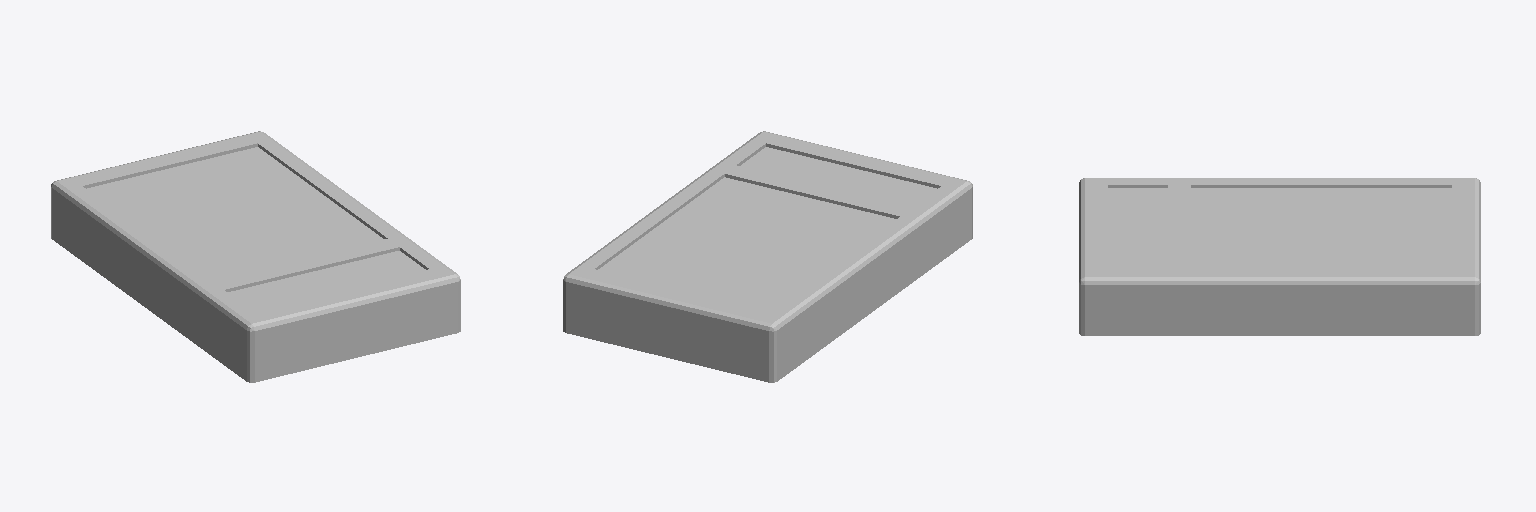
The model's file is pinpad.obj.
3 renders of one model, left to right at view 1: azimuth 30°, elevation 25°; view 2: azimuth 150°, elevation 25°; view 3: azimuth 270°, elevation 25°, orthographic.
Visible parts, largest first — view 1: Cube.016; view 2: Cube.016; view 3: Cube.016.
Part boxes in pixels (x1,y1,x2,y2): Cube.016: (51,131,460,382); Cube.016: (563,131,972,382); Cube.016: (1079,178,1480,335).
Size of the model in its own units: 0.2405 by 0.061 by 0.3917.